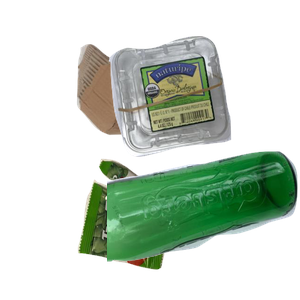cardboard: (74, 42, 225, 170)
glass: (107, 149, 300, 300)
plastic: (106, 34, 300, 183)
trash: (75, 156, 244, 300)
